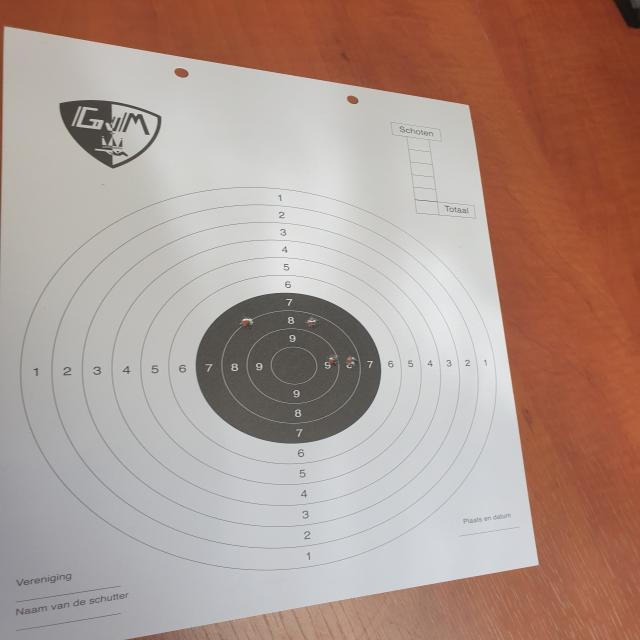8: (239, 316, 255, 329), (305, 317, 321, 329), (344, 356, 359, 368)
9: (326, 355, 338, 367)
Target: (19, 188, 498, 574)
black_contour: (196, 291, 382, 444)
